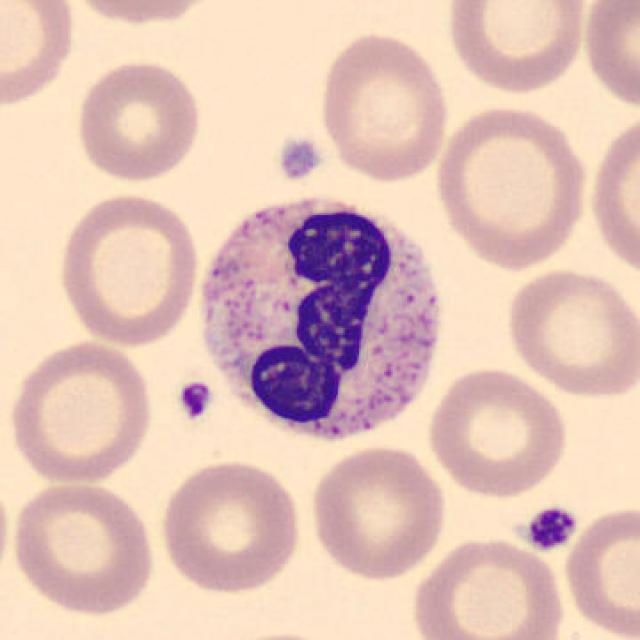Neutrophil: (188, 182, 454, 460)
Platelets: (522, 502, 580, 552), (272, 134, 324, 183), (174, 377, 215, 425)
RBC: (430, 100, 592, 274), (52, 189, 205, 349), (3, 336, 156, 486), (7, 478, 160, 619), (314, 28, 452, 184), (154, 455, 306, 596), (306, 441, 450, 582), (423, 363, 571, 499), (502, 264, 638, 400), (407, 532, 569, 640), (73, 57, 204, 185), (443, 0, 590, 97), (560, 499, 640, 640), (585, 107, 638, 284), (0, 0, 80, 111), (580, 0, 638, 115), (62, 0, 224, 28), (206, 627, 352, 640), (0, 463, 12, 599)
